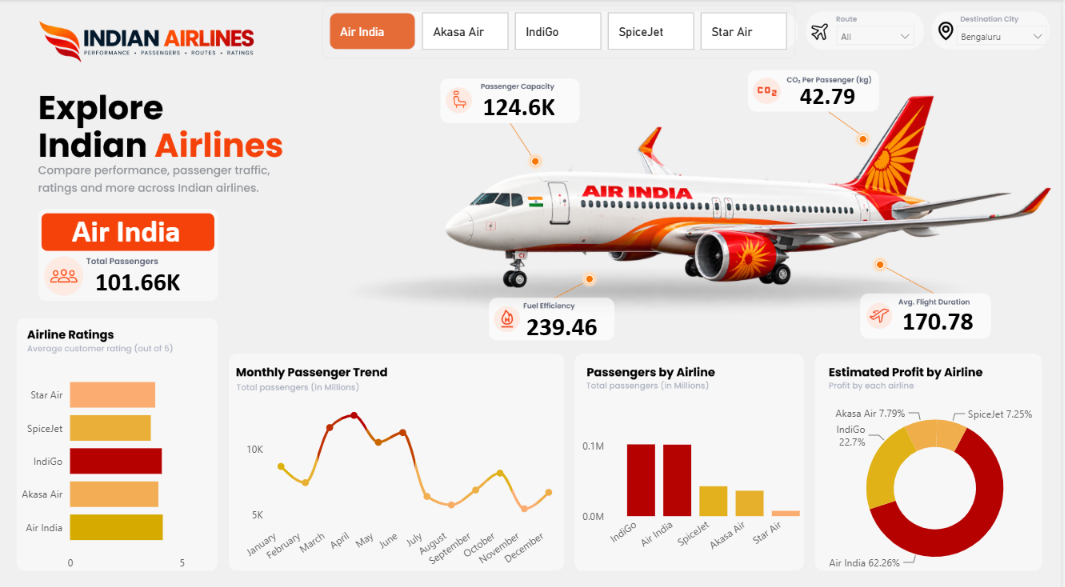

The page's visual inventory and layout, read from the dashboard file:
{"tool":"powerbi","page":{"name":"Page 1","canvas":[1280,720],"ordinal":0},"visuals":[{"type":"barChart","fields":{"Category":["Flight_Data.Airline"],"Y":["Avg(Flight_Data.Customer_Rating)"]},"box":[15.7,432.9,240,265.7],"z":0},{"type":"clusteredColumnChart","fields":{"Category":["Flight_Data.Airline"],"Y":["Sum(Flight_Data.Passengers)"]},"box":[697.1,482.9,291.4,204.3],"z":1000},{"type":"lineChart","fields":{"Category":["Flight_Data.Date.Variation.Date Hierarchy.Year","Flight_Data.Date.Variation.Date Hierarchy.Quarter","Flight_Data.Date.Variation.Date Hierarchy.Month"],"Y":["Sum(Flight_Data.Passengers)"]},"box":[277.1,467.1,401.4,238.6],"z":2000},{"type":"donutChart","fields":{"Category":["Flight_Data.Airline"],"Y":["Sum(Flight_Data.Estimated_Profit_INR)"]},"box":[988.6,461.4,280,258.6],"z":3000},{"type":"advancedSlicerVisual","fields":{"Values":["Flight_Data.Airline"]},"box":[388.8,7.5,571.2,63.8],"z":4000},{"type":"image","box":[517.1,52.9,762.9,361.4],"z":5000},{"type":"cardVisual","fields":{"Data":["Min(Flight_Data.Airline)"]},"box":[56.7,247.8,191.1,58.9],"z":6000},{"type":"cardVisual","fields":{"Data":["Sum(Flight_Data.Passengers)"]},"box":[85,311.7,163.3,51.7],"z":7000},{"type":"cardVisual","fields":{"Data":["MeasuresTable.Seat Capacity"]},"box":[560,85,132.9,82.9],"z":8000},{"type":"cardVisual","fields":{"Data":["MeasuresTable.CO2 Per Passenger"]},"box":[932.6,71.7,132.9,82.9],"z":9000},{"type":"cardVisual","fields":{"Data":["MeasuresTable.Fuel Efficiency"]},"box":[612.1,349.5,132.9,82.9],"z":10000},{"type":"cardVisual","fields":{"Data":["MeasuresTable.Avg Flight Duration"]},"box":[1065,343.3,132.9,82.9],"z":11000},{"type":"slicer","fields":{"Values":["Flight_Data.Route"]},"box":[999,21.5,114,37],"z":12000},{"type":"slicer","fields":{"Values":["Flight_Data.Destination_City"]},"box":[1143.2,21.6,129.5,36.8],"z":13000}]}

Visuals, with their boxes in screenshot pixels (x1, y1, x2, y2), scaled from the page's 1280x720 canvas onto the 1065x587 screenshot:
barChart - Flight_Data.Airline x Avg(Flight_Data.Customer_Rating): bbox=(13, 353, 213, 570)
clusteredColumnChart - Flight_Data.Airline x Sum(Flight_Data.Passengers): bbox=(580, 394, 822, 560)
lineChart - Flight_Data.Date.Variation.Date Hierarchy.Year x Flight_Data.Date.Variation.Date Hierarchy.Quarter: bbox=(231, 381, 565, 575)
donutChart - Flight_Data.Airline x Sum(Flight_Data.Estimated_Profit_INR): bbox=(823, 376, 1056, 586)
advancedSlicerVisual - Flight_Data.Airline: bbox=(323, 6, 799, 58)
image: bbox=(430, 43, 1064, 338)
cardVisual - Min(Flight_Data.Airline): bbox=(47, 202, 206, 250)
cardVisual - Sum(Flight_Data.Passengers): bbox=(71, 254, 207, 296)
cardVisual - MeasuresTable.Seat Capacity: bbox=(466, 69, 577, 137)
cardVisual - MeasuresTable.CO2 Per Passenger: bbox=(776, 58, 887, 126)
cardVisual - MeasuresTable.Fuel Efficiency: bbox=(509, 285, 620, 353)
cardVisual - MeasuresTable.Avg Flight Duration: bbox=(886, 280, 997, 347)
slicer - Flight_Data.Route: bbox=(831, 18, 926, 48)
slicer - Flight_Data.Destination_City: bbox=(951, 18, 1059, 48)
